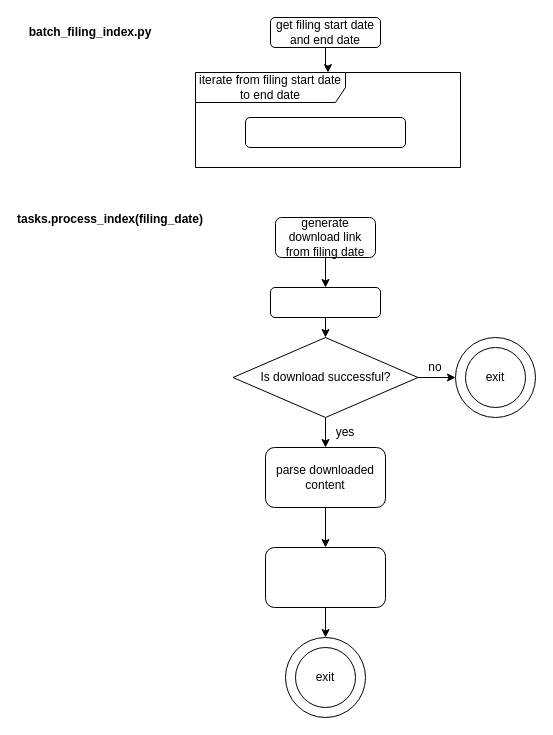
This 553x735 diagram has some shape labels left out. The centre of each missing label's shape, as x and y in pixels:
"celery task process_index(filing_date)" belongs at (x=325, y=132).
"download index file" belongs at (x=325, y=302).
"insert records to database" belongs at (x=325, y=577).
